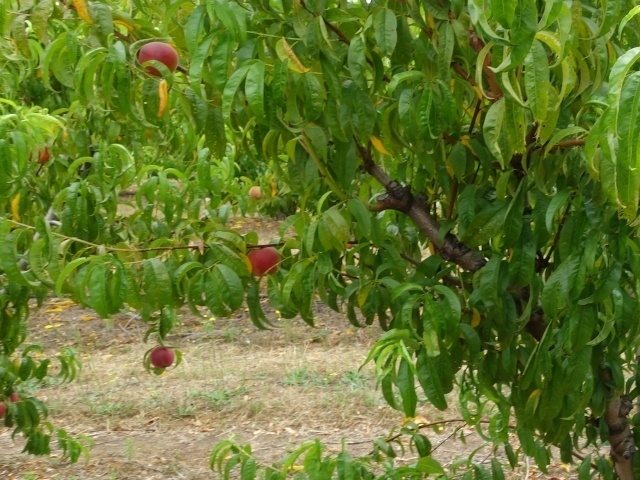peach: (129, 39, 182, 83), (242, 242, 282, 279), (146, 342, 176, 373), (24, 145, 52, 169), (245, 181, 264, 203)
